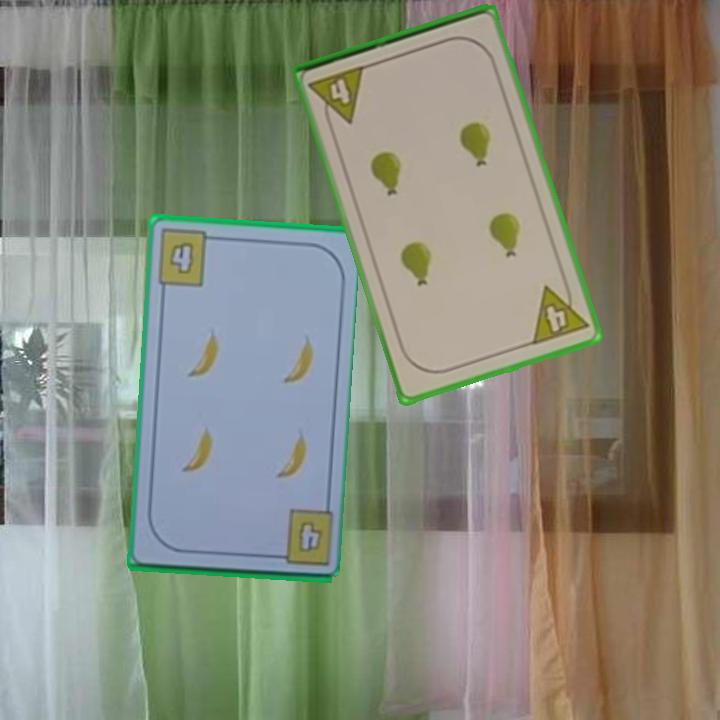4b: (153, 226, 220, 289), (293, 516, 325, 556)
4p: (528, 276, 592, 348), (305, 62, 369, 131)
